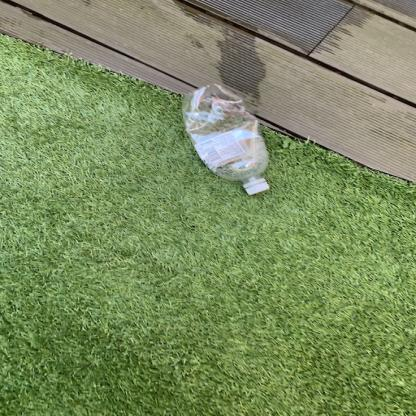trash: (176, 82, 283, 198)
